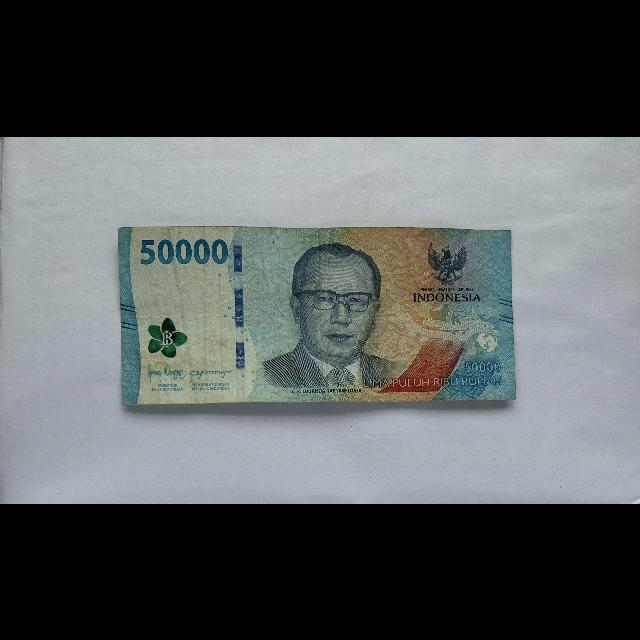Asli-50k: (117, 223, 522, 406)
Tinta-Asli-50k: (148, 316, 189, 359)
